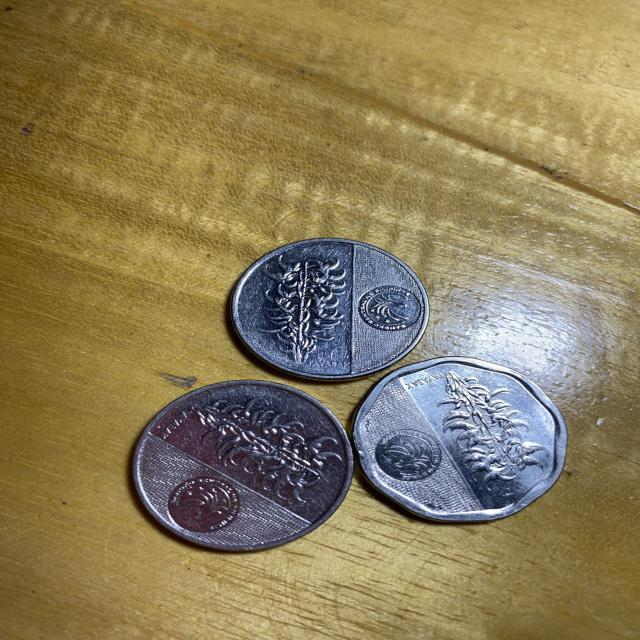5_New_Back: (434, 369, 542, 485), (196, 404, 328, 498), (251, 262, 348, 364)
